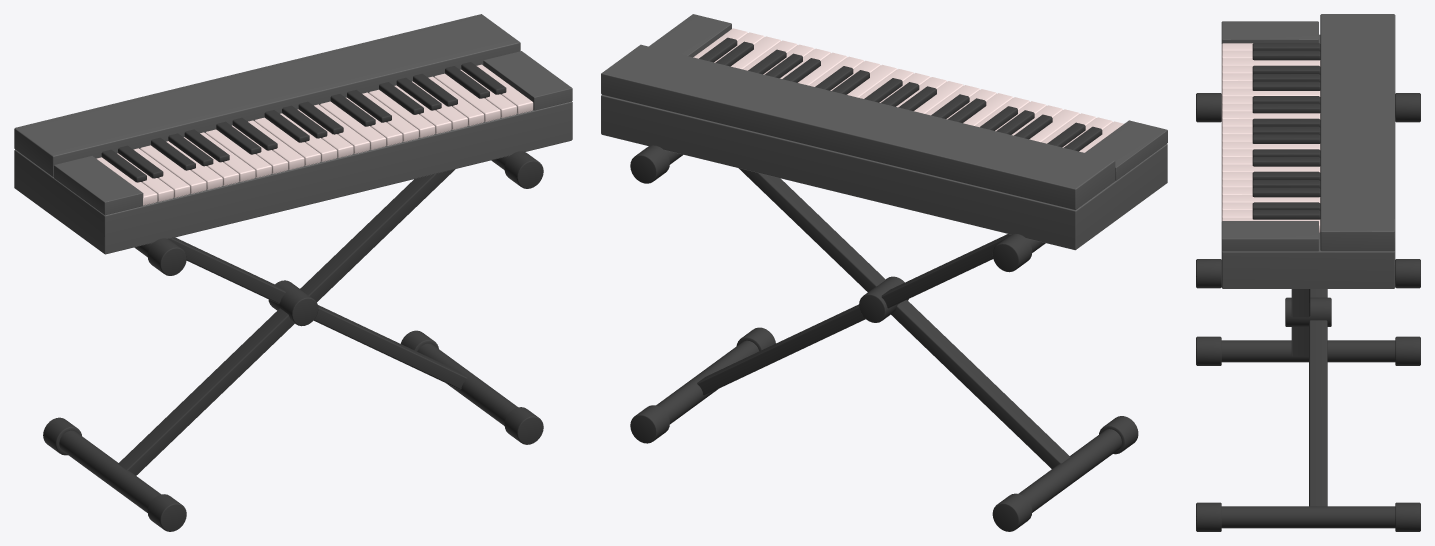
Rendered from Store_13_Synthesizer_1.glb.
3 views of the same model, side by side, from view 1: azimuth 30°, elevation 25°; view 2: azimuth 150°, elevation 25°; view 3: azimuth 270°, elevation 25° (orthographic). The views are drawn at different scales.
Visible parts, largest first — view 1: Store_13_Synthesizer_1; view 2: Store_13_Synthesizer_1; view 3: Store_13_Synthesizer_1.
Boxes of the visible parts, x1,y1,x2,y2 form: Store_13_Synthesizer_1: [14, 14, 572, 531]; Store_13_Synthesizer_1: [601, 14, 1167, 531]; Store_13_Synthesizer_1: [1196, 14, 1420, 531].
Bounding box in the file's own units: 1.79 × 1.25 × 0.7815.
1 material, 1 textured.
